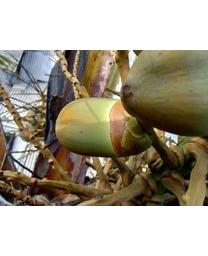coconut: (55, 96, 152, 158)
